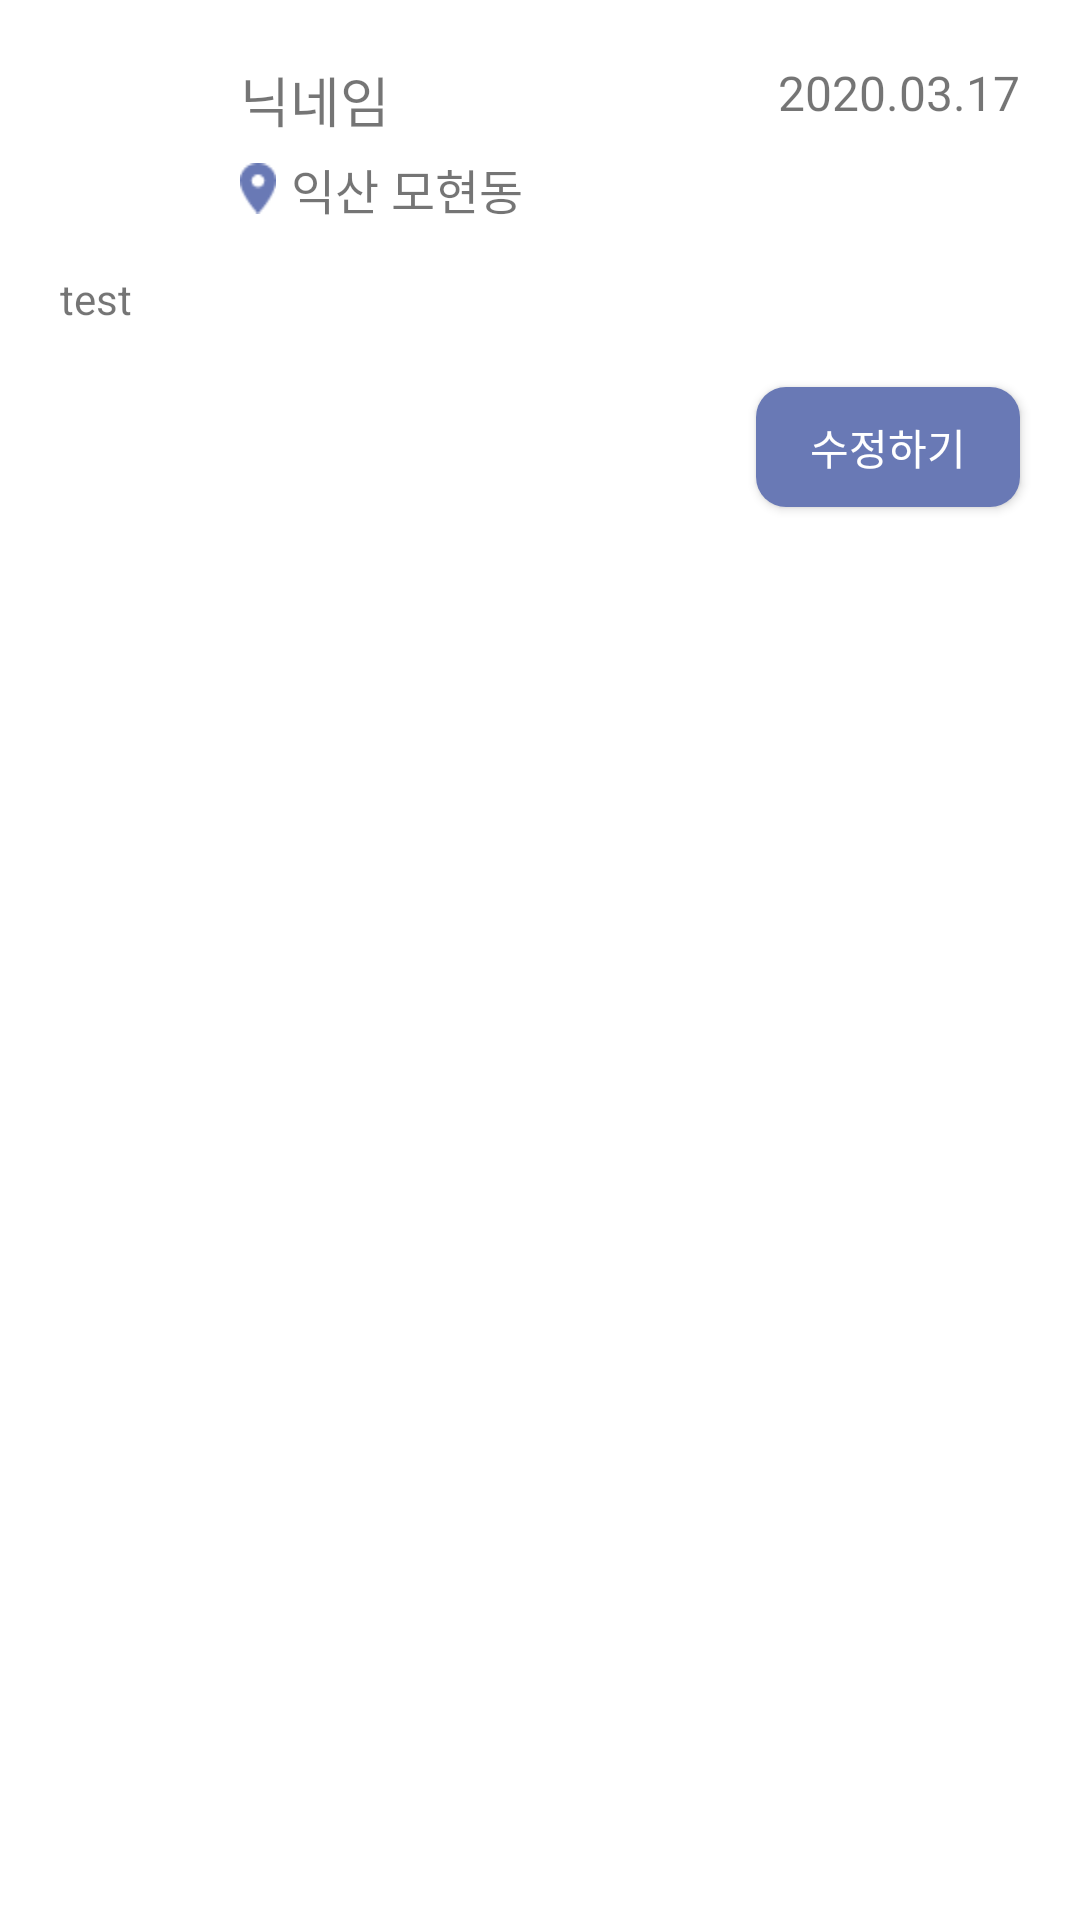

Where to tap for icons on this 1080w x 1920h app screen, as (x,y):
location: (258,188)
